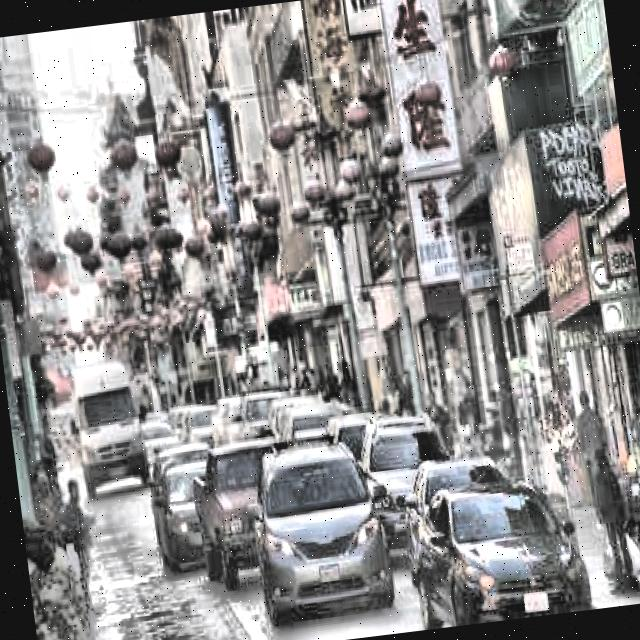license_plate: (521, 588, 548, 614), (318, 562, 343, 584)
